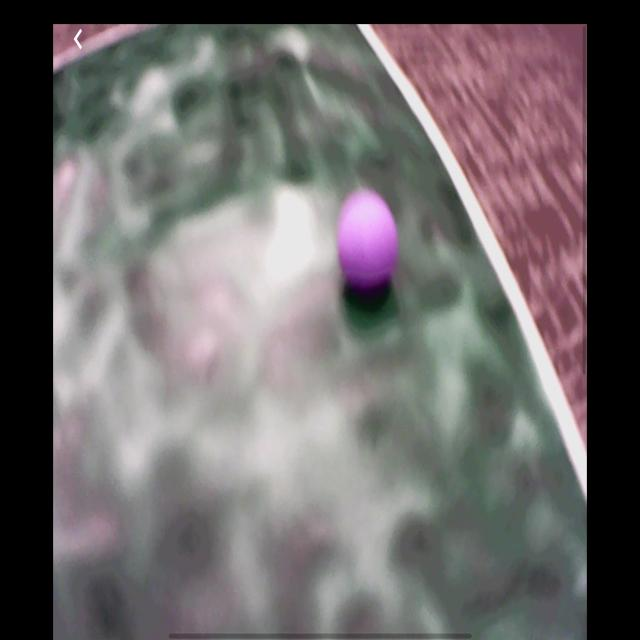ball: (338, 190, 397, 293)
